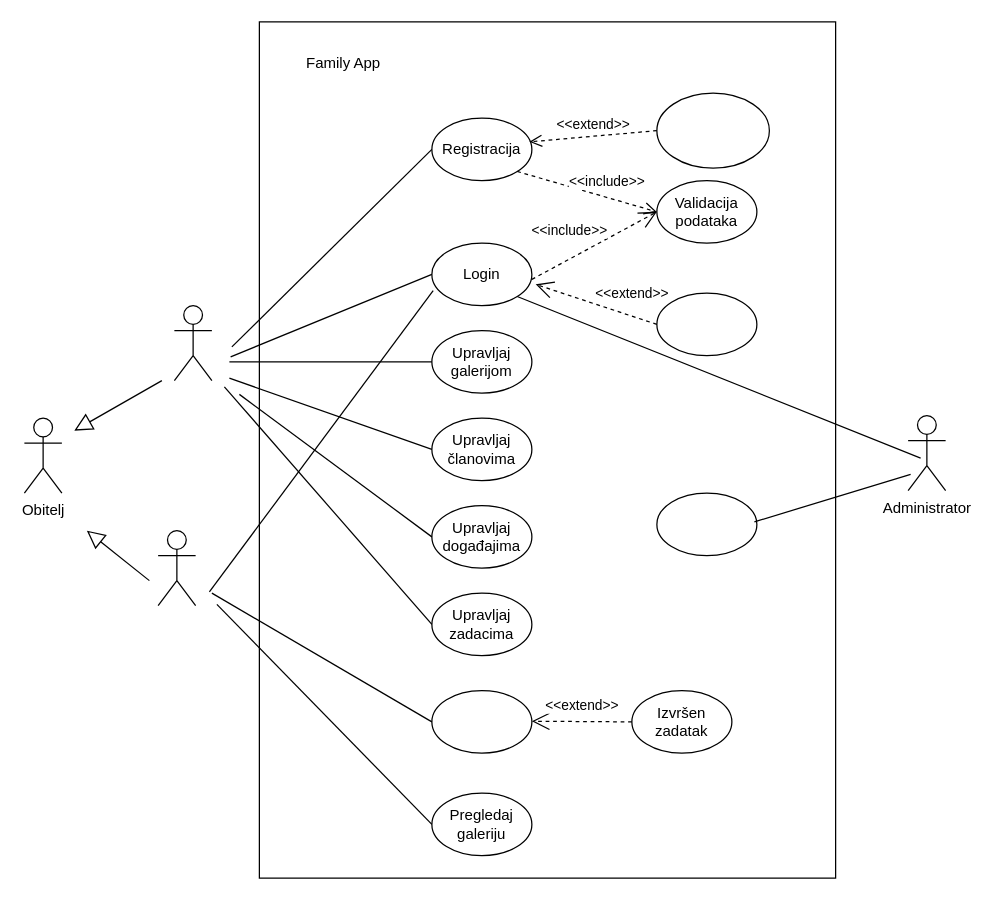
This 993x900 diagram has some shape labels left out. The shapes that lost their labels are listed below. From the top down, each one's box as (x1, y1, x2, y2) in pixels, then its label:
(656, 92, 769, 168): Prikaz register greške
(173, 304, 212, 381): Roditelj
(656, 292, 757, 356): Prikaz login greške
(656, 492, 757, 556): Upravljaj obiteljima
(157, 529, 196, 606): Dijete
(431, 689, 532, 753): Pregledaj zadatke
